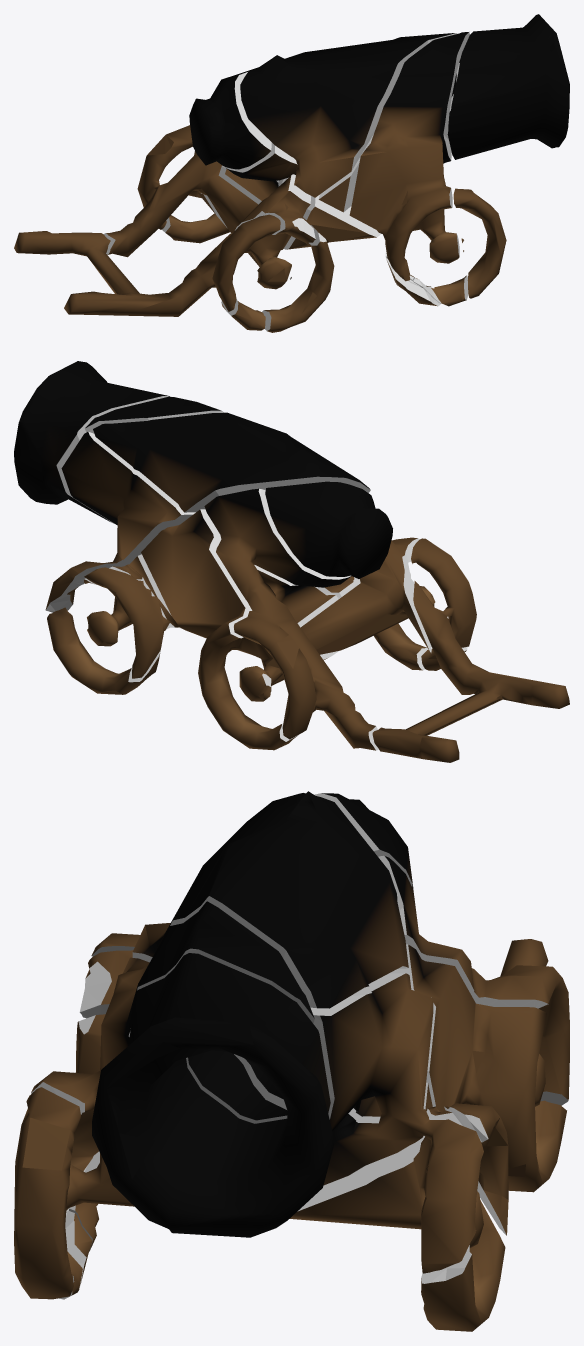
File: Cannons.glb
3 views of the same model, one above another, from view 1: azimuth 30°, elevation 25°; view 2: azimuth 150°, elevation 25°; view 3: azimuth 270°, elevation 25° (orthographic). The views are drawn at different scales.
Visible parts, largest first — view 1: Root.008, Root.005, Root.014, Root.003, Root.011, Root.010, Root, Root.015, Root.007, Root.001, Root.012, Root.018 (+1 smaller); view 2: Root.003, Root.007, Root.008, Root.011, Root.014, Root.010, Root.001, Root, Root.005; view 3: Root.014, Root.008, Root.001, Root.007, Root.005, Root, Root.015, Root.003, Root.010, Root.011, Root.002, Root.009.
Boxes of the visible parts, box(x1,y1,x2,y2) form: Root.008: box(240, 33, 457, 197); Root.005: box(349, 32, 469, 281); Root.014: box(447, 14, 569, 159); Root.003: box(103, 125, 315, 289); Root.011: box(14, 214, 280, 316); Root.010: box(189, 67, 271, 169); Root: box(262, 177, 381, 332); Root.015: box(453, 188, 506, 298); Root.007: box(162, 165, 283, 243); Root.001: box(318, 63, 459, 212); Root.012: box(221, 298, 265, 330); Root.018: box(431, 275, 468, 306); Root.003: box(204, 488, 435, 750); Root.007: box(84, 509, 338, 750); Root.008: box(93, 412, 370, 512); Root.011: box(372, 538, 569, 762); Root.014: box(14, 361, 171, 523); Root.010: box(265, 481, 392, 578); Root.001: box(45, 431, 195, 612); Root: box(47, 554, 428, 694); Root.005: box(85, 396, 223, 433); Root.014: box(92, 953, 334, 1237); Root.008: box(132, 791, 408, 1008); Root.001: box(234, 973, 483, 1273); Root.007: box(389, 944, 566, 1235); Root.005: box(31, 901, 314, 1210); Root: box(75, 1014, 505, 1331); Root.015: box(14, 1087, 80, 1299); Root.003: box(79, 855, 569, 1105); Root.010: box(314, 793, 413, 889); Root.011: box(91, 933, 548, 976); Root.002: box(65, 1210, 92, 1285); Root.009: box(69, 1151, 99, 1251).
Bounding box in the file's own units: 3.89 × 1.72 × 2.12.
